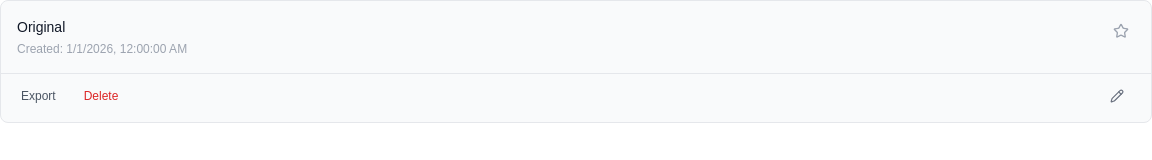
Test: ChatHistoryItem › saves a trimmed title by Enter and restores focus to the edit button
The width and height of the screenshot is (1152, 160).
Click the button named "제목 변경: Original" at (1117, 96), box [1099, 78, 1135, 114]
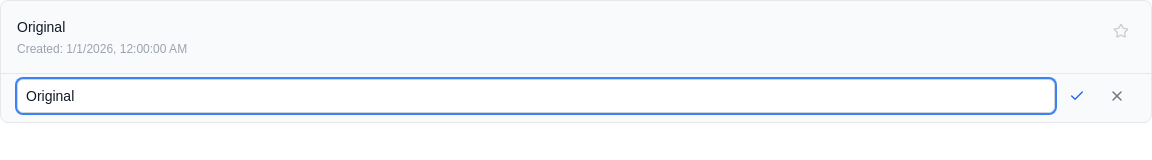
Replace the text in the field named "채팅방 제목" with "  다른 루트  " at (536, 96), box [17, 79, 1055, 113]
Then press Enter
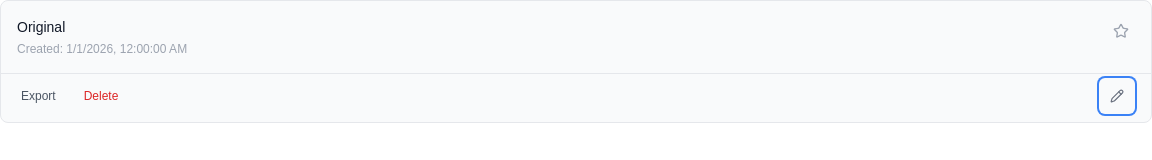
Check: the field is gone
